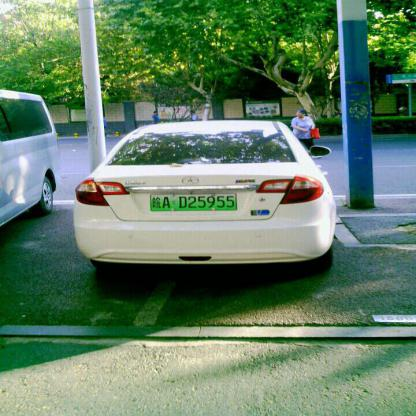lp: (150, 194, 236, 210)
